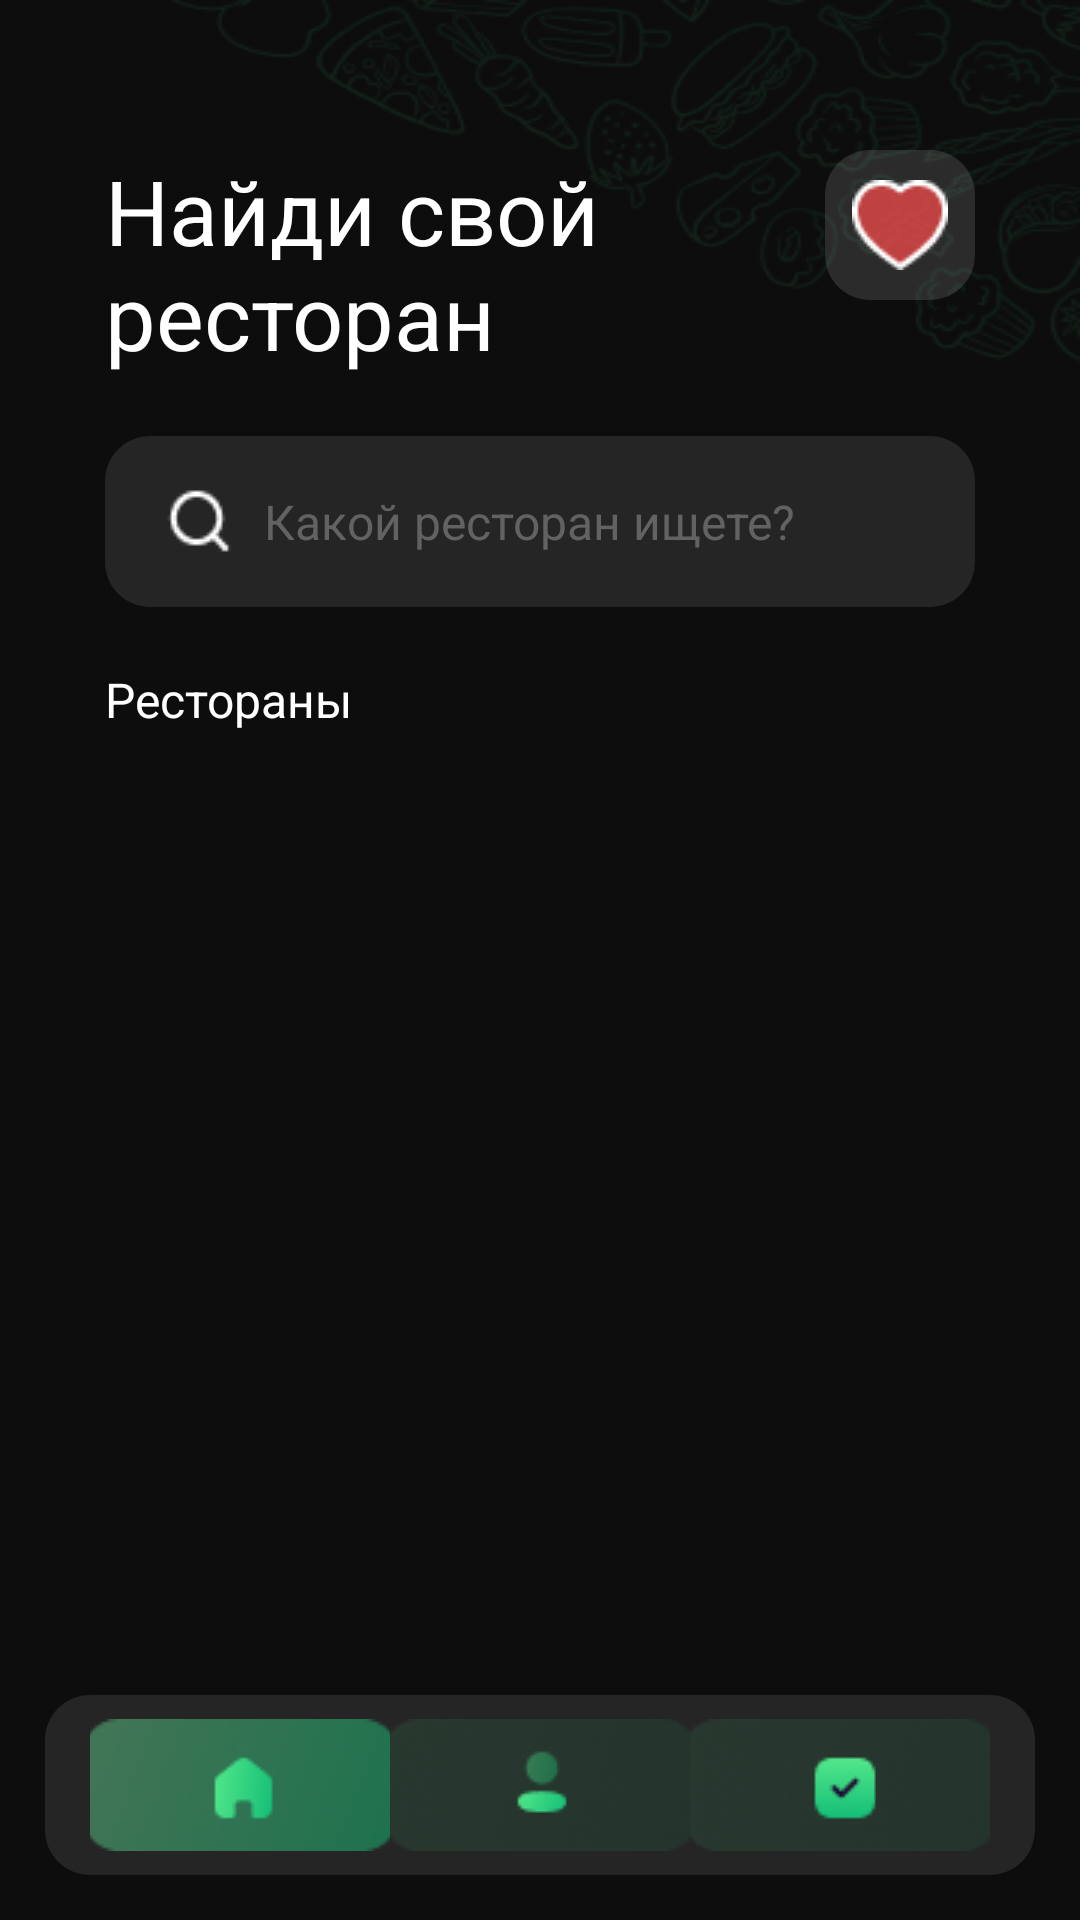

Screen size 1080 × 1920. Icon name, then its box in pixels as (x1, y1, x2, y2):
checks passive: (814, 1757, 876, 1819)
home: (90, 1719, 390, 1851)
person passive: (517, 1751, 567, 1813)
Кнопка входа в избранные рестораны: (825, 150, 975, 300)
